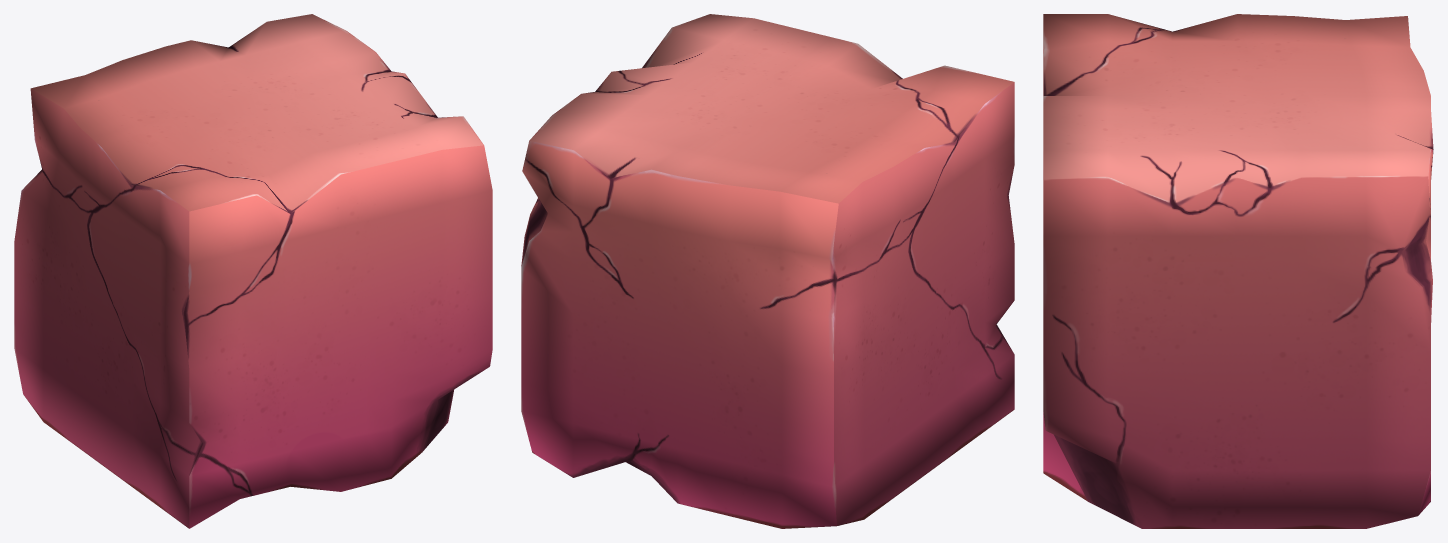
Rendered from rock_cube.fbx.
3 renders of one model, left to right at view 1: azimuth 30°, elevation 25°; view 2: azimuth 150°, elevation 25°; view 3: azimuth 270°, elevation 25°, orthographic. The views are drawn at different scales.
Visible parts, largest first — view 1: Cube.035; view 2: Cube.035; view 3: Cube.035.
Part boxes in pixels (left/top/right/bottom): Cube.035: left=14, top=14, right=492, bottom=528; Cube.035: left=521, top=14, right=1014, bottom=528; Cube.035: left=1043, top=14, right=1433, bottom=528.
Size of the model in its own units: 134 by 133 by 133.
